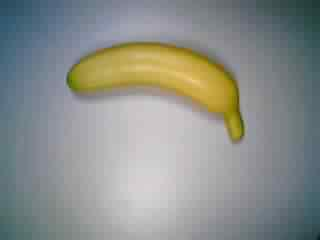banana: (61, 36, 252, 146)
